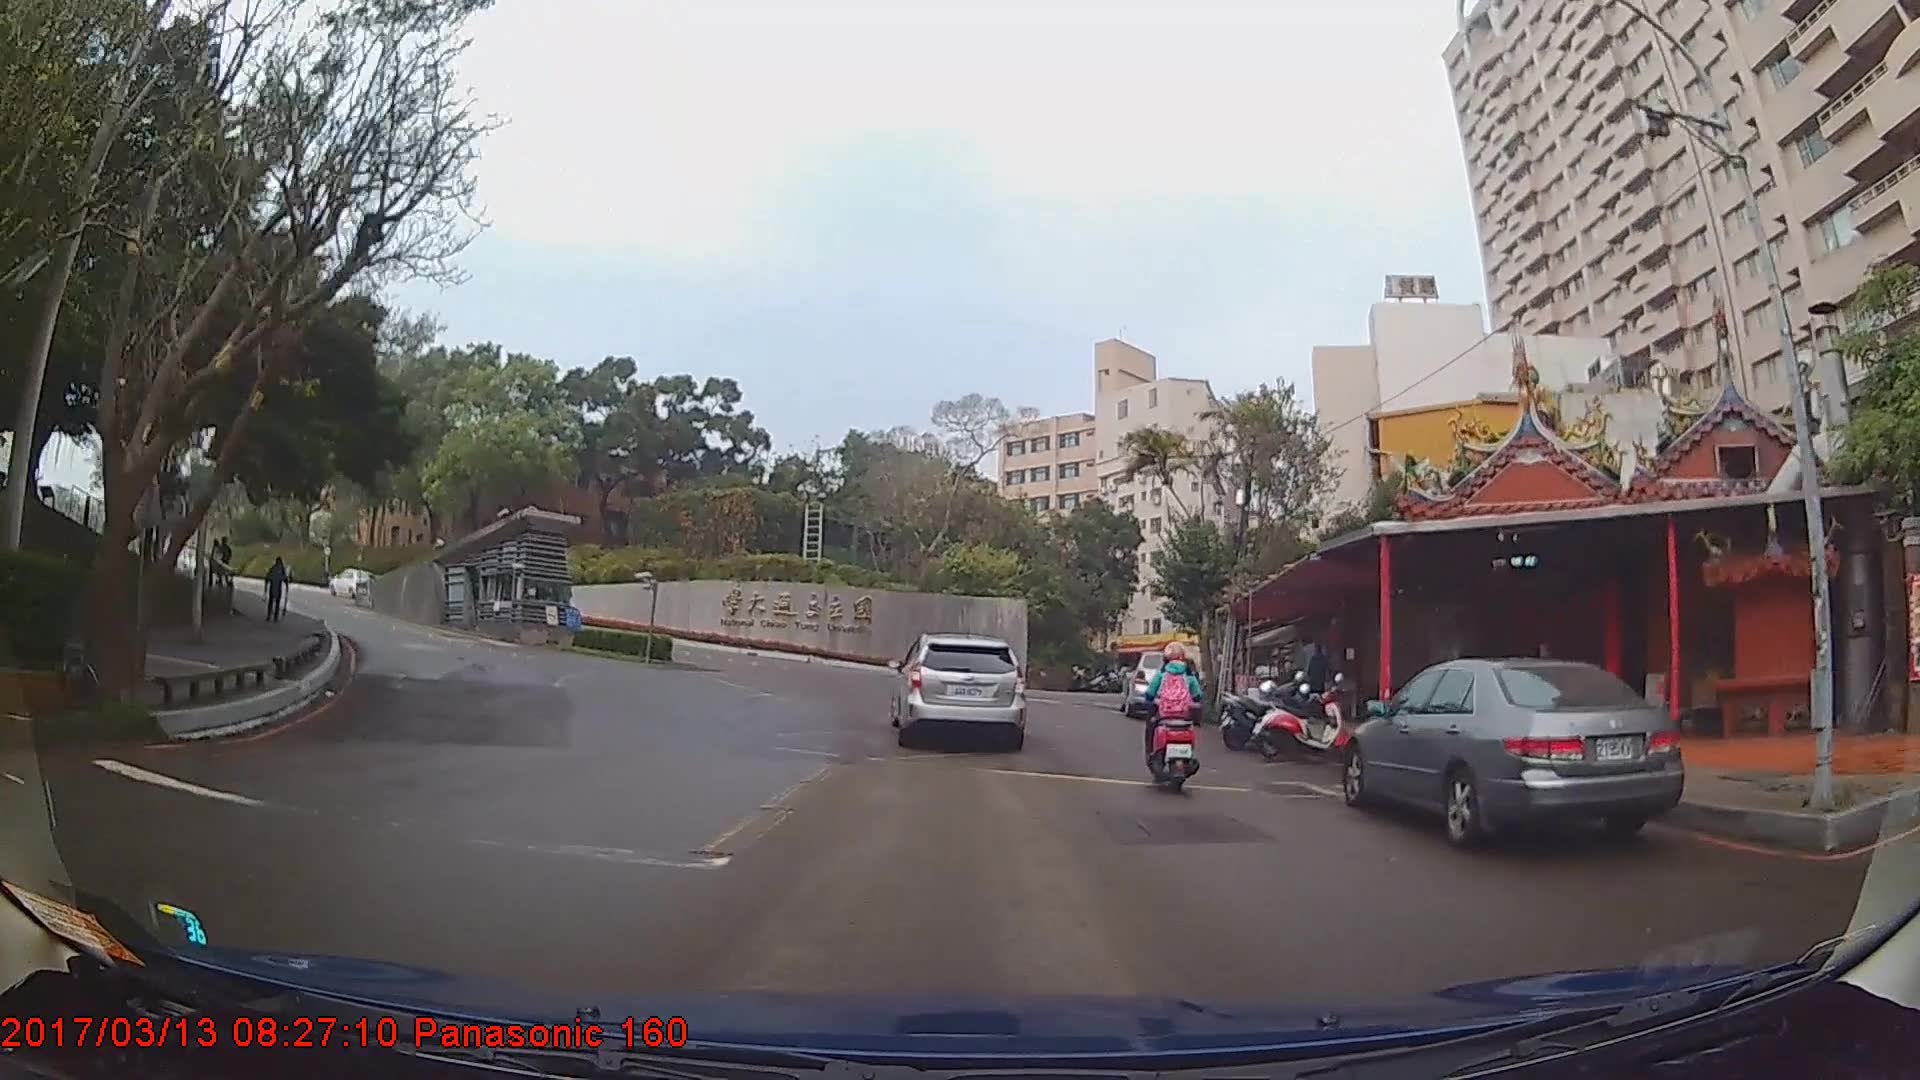pedestrian: (1306, 639, 1336, 726), (265, 562, 293, 628), (207, 538, 227, 592), (216, 538, 236, 592)
rider: (1139, 654, 1209, 811)
vehicle: (1340, 656, 1685, 848), (888, 631, 1025, 748), (1119, 647, 1202, 717), (327, 574, 376, 601)
